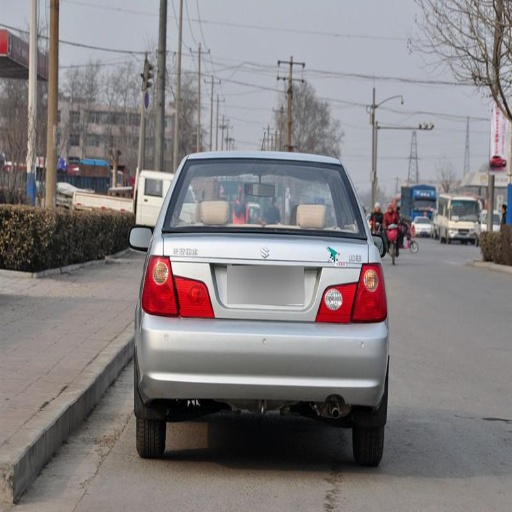back_bumper: (137, 311, 386, 414)
tailgate: (283, 246, 367, 321)
trunk: (158, 231, 367, 329)
